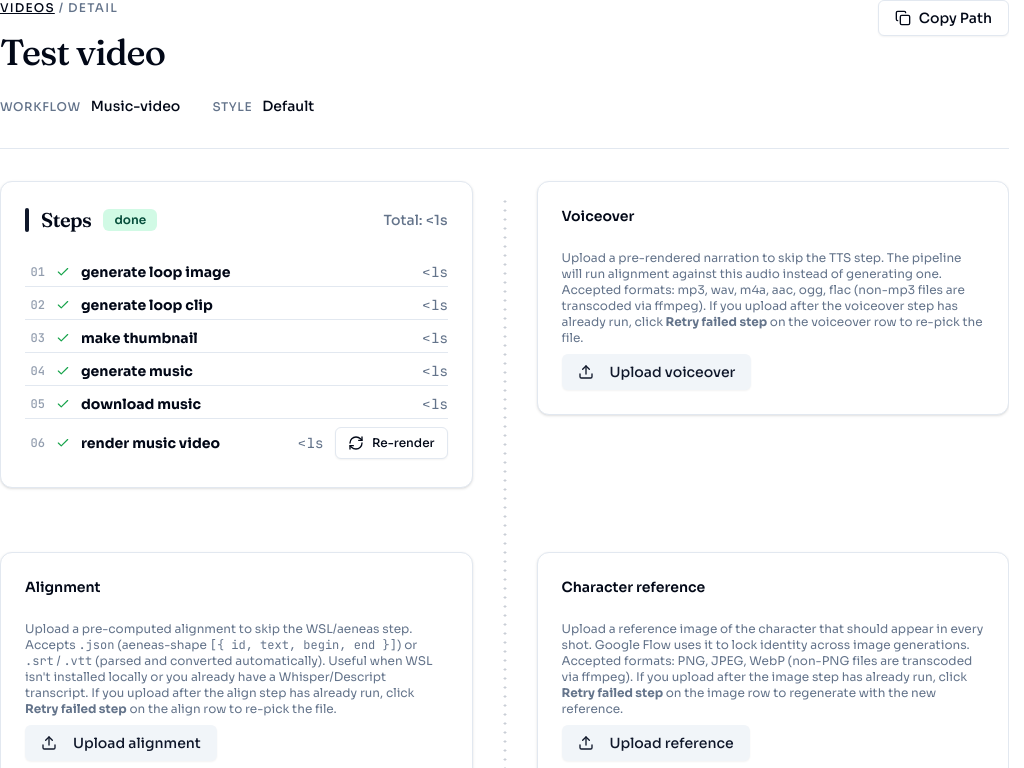
Test: VideoDetailClient — Re-render last step button › clicking Re-render opens a confirm dialog warning about overwriting final.mp4
Click the button "Re-render": (391, 443) [335,427,448,459]
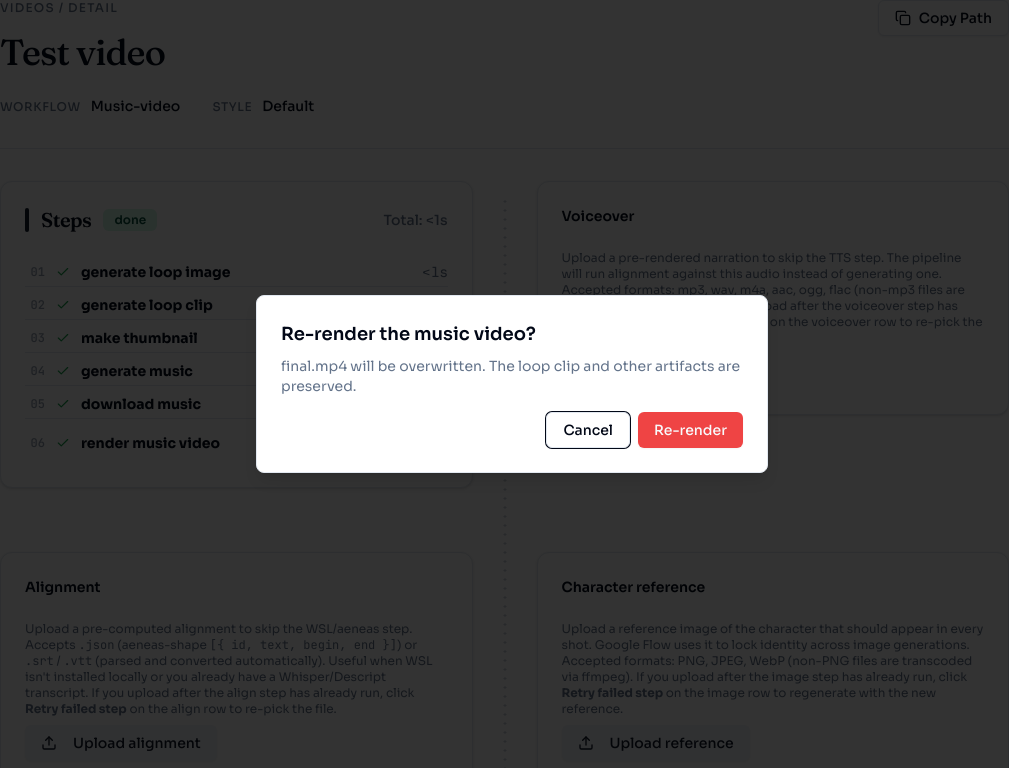
Now the dialog is shown, box [256,295,768,473]
Now the text "final.mp4" is shown, box [281,357,740,395]
